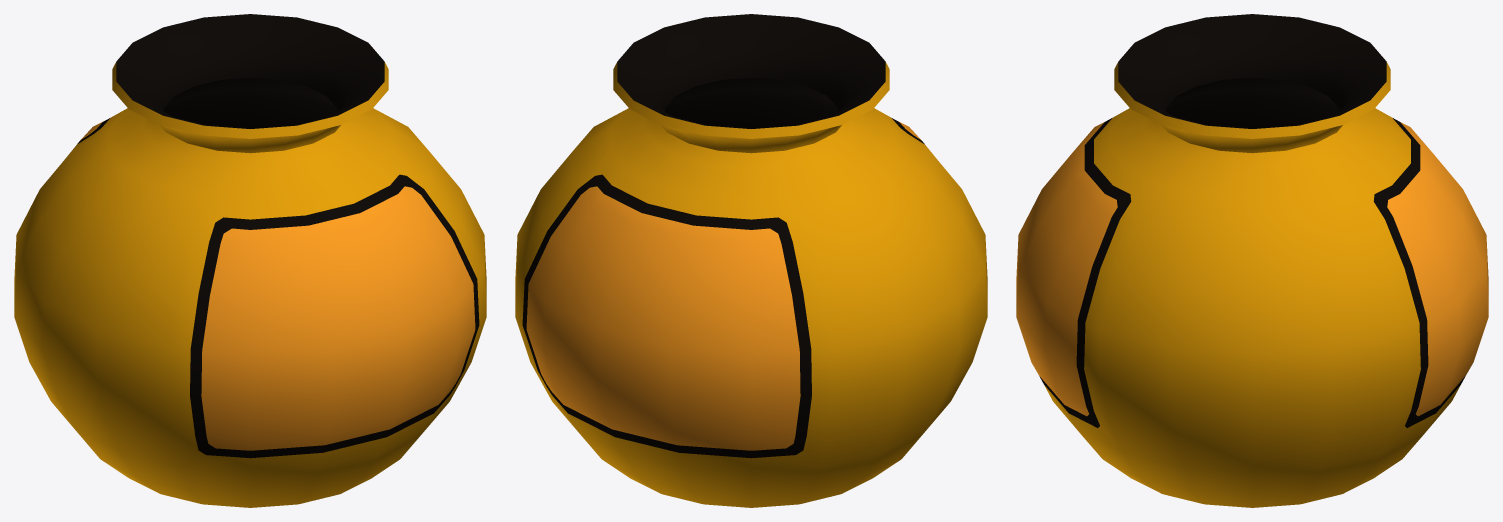
File: simpleVase.fbx
3 renders of one model, left to right at view 1: azimuth 30°, elevation 25°; view 2: azimuth 150°, elevation 25°; view 3: azimuth 270°, elevation 25°, orthographic.
Visible parts, largest first — view 1: Cylinder002; view 2: Cylinder002; view 3: Cylinder002.
Part boxes in pixels (box(x1,y1,x2,y2)): Cylinder002: box(14, 14, 486, 507); Cylinder002: box(515, 14, 987, 507); Cylinder002: box(1016, 14, 1488, 507).
Bounding box in the file's own units: 73.07 × 63.39 × 71.96.
